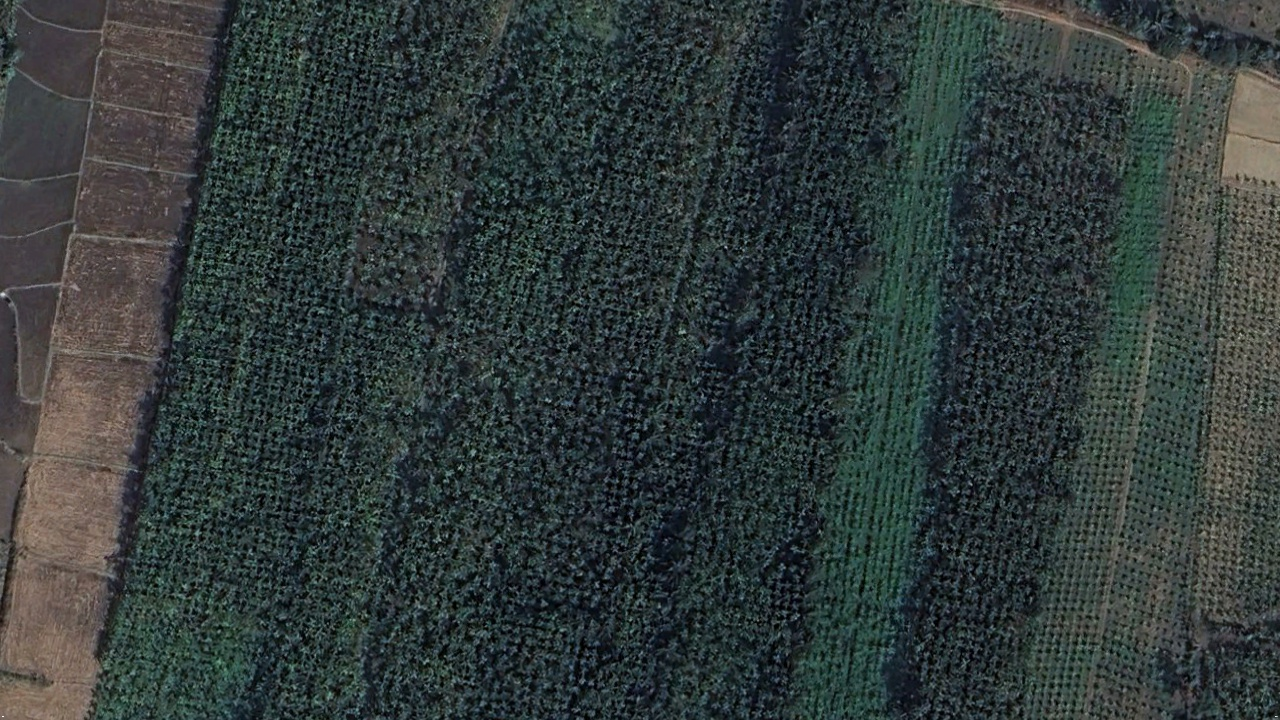arecanut: (98, 1, 1135, 720)
